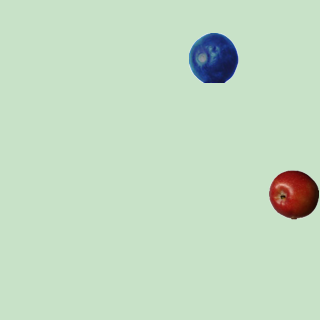Apple Braeburn: (268, 169, 318, 219)
Huckleberry: (188, 32, 238, 82)
